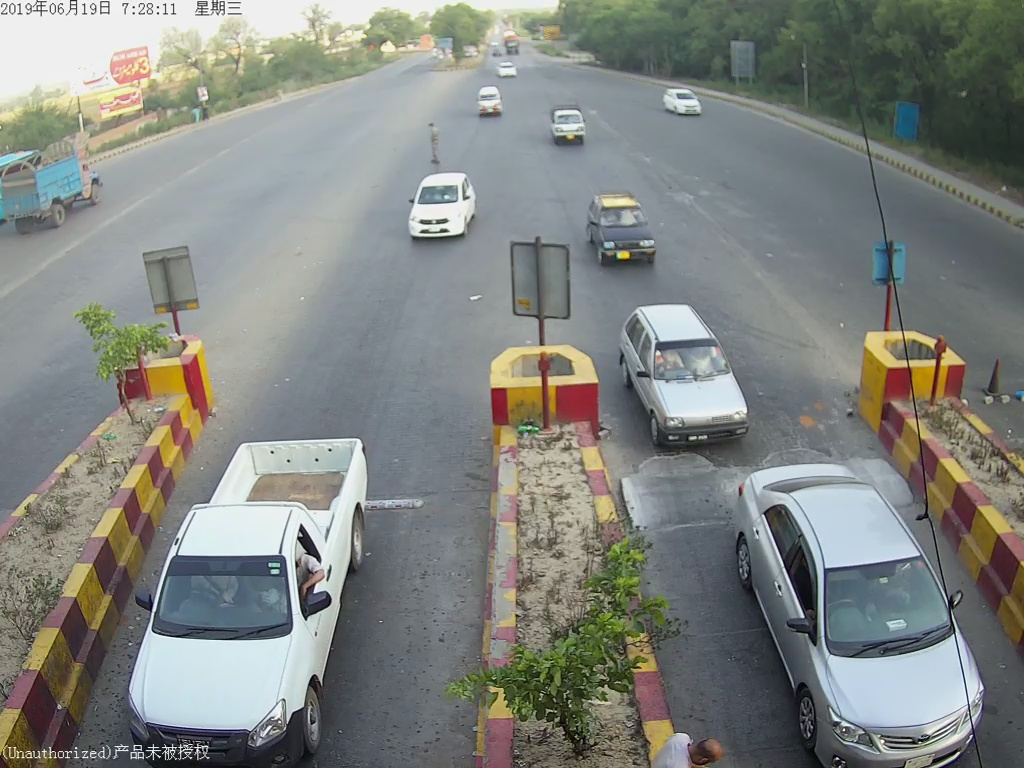Cat-1: (726, 452, 1009, 767), (131, 434, 381, 755), (614, 302, 760, 448), (584, 193, 660, 271), (405, 172, 477, 240), (548, 103, 591, 147), (471, 83, 510, 126)
